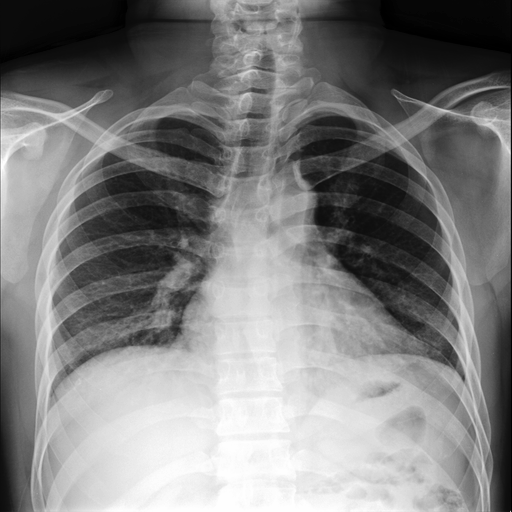Consolidation: (255, 173, 319, 218)
Nodule/Mass: (179, 304, 427, 373)
Other lesion: (290, 156, 313, 192)
